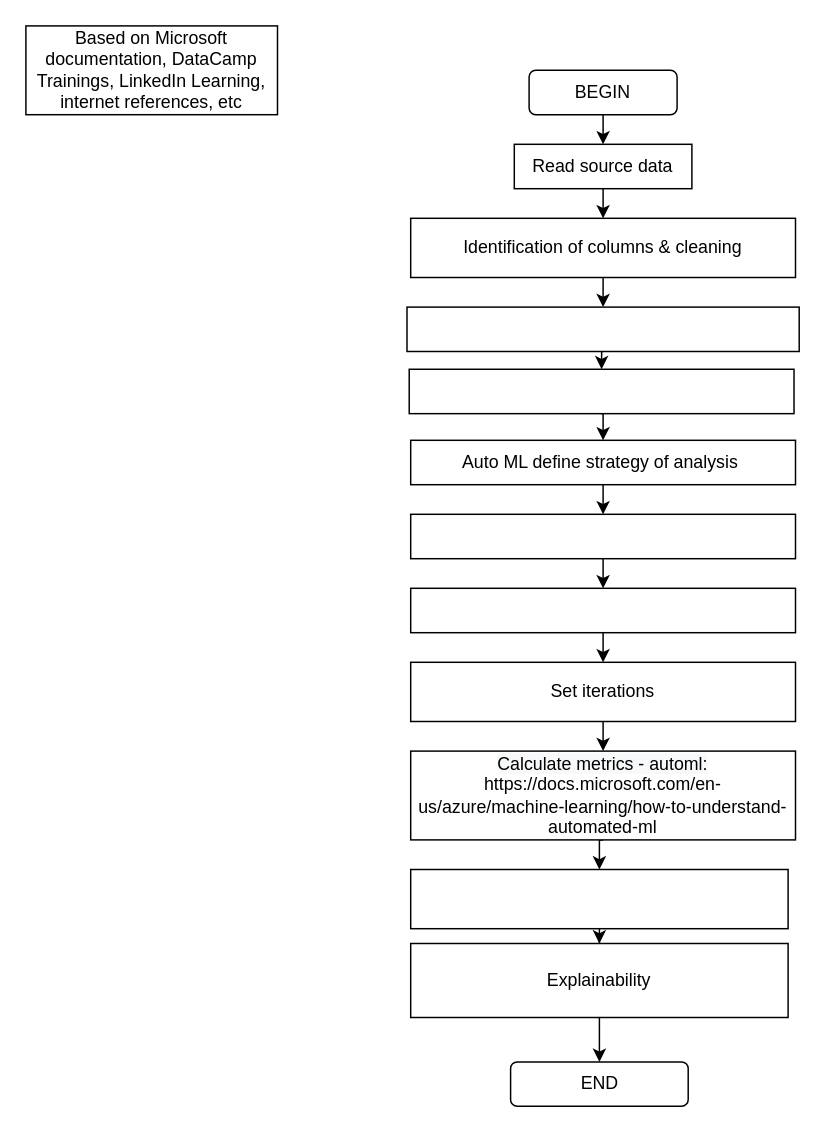
Some shapes in this 826 by 1132 pixel diagram are drawn without their labels. The shapes that lost their labels are listed below. From the top down, each one's centre as x and y in pixels, then its label:
At (602,329): "Identification of test and train set".
At (601,391): "Connection with AzureService".
At (602,536): "Create dataset for each session".
At (602,610): "Test the Compute Cluster".
At (598,898): "Display results".
